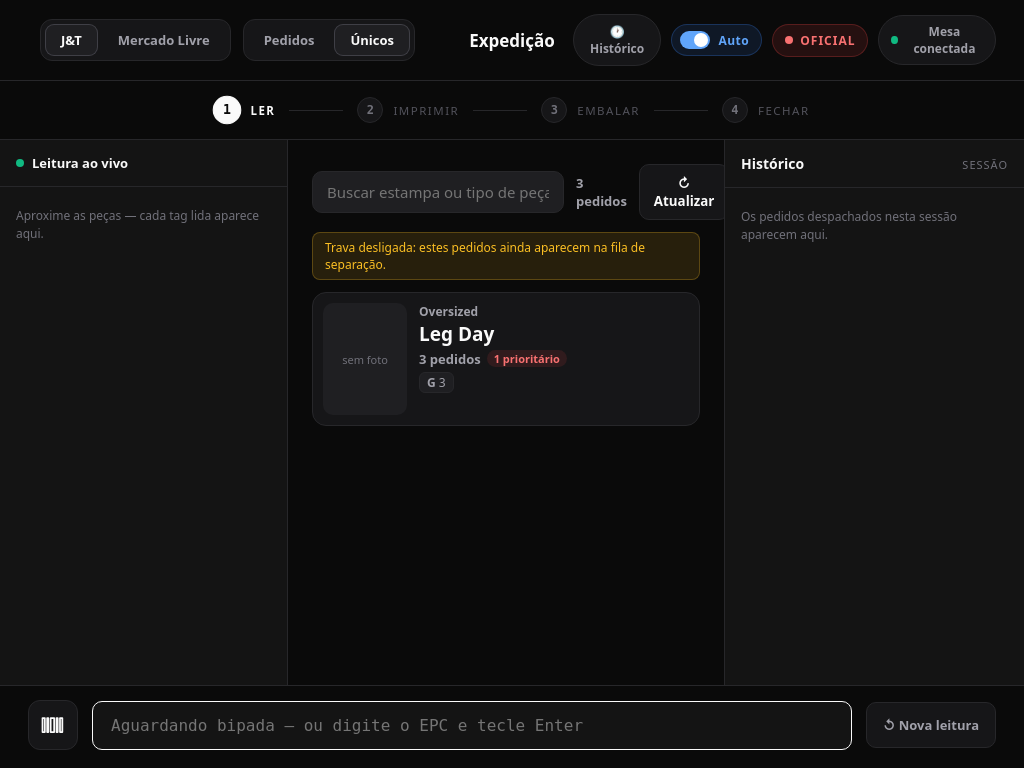
Test: Expedição — modo Únicos › estampa com um tamanho: mostra o card, o aviso da trava e o clique escolhe direto
Expected: the text "Trava desligada" is shown, [325,239,645,273]
Expected: the text "3 pedidos" is shown, [576,174,627,210]
Click the button titled "Escolher a fila Leg Day G" at {"x": 506, "y": 359}, box [312,292,700,426]
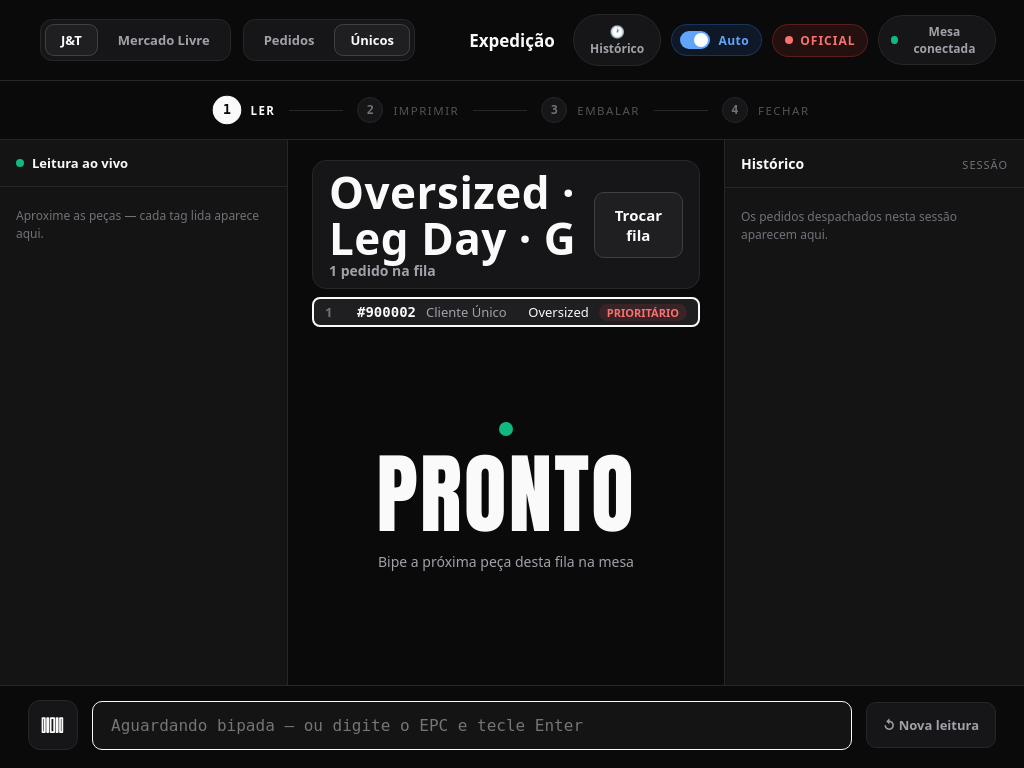
Expected: the text "Oversized · Leg Day · G" is shown, [329,169,582,261]
